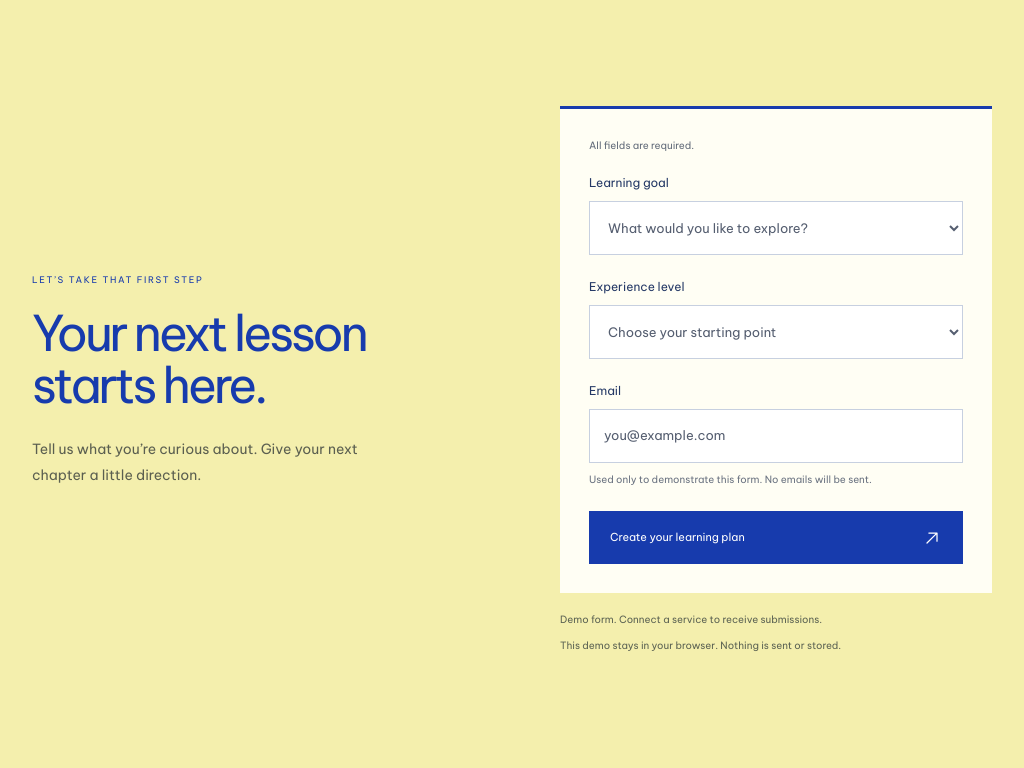
Scenario: Learning plan demo form › shows field errors and focuses the first invalid control
Click the button "Create your learning plan": point(677, 537) [589,511,963,564]
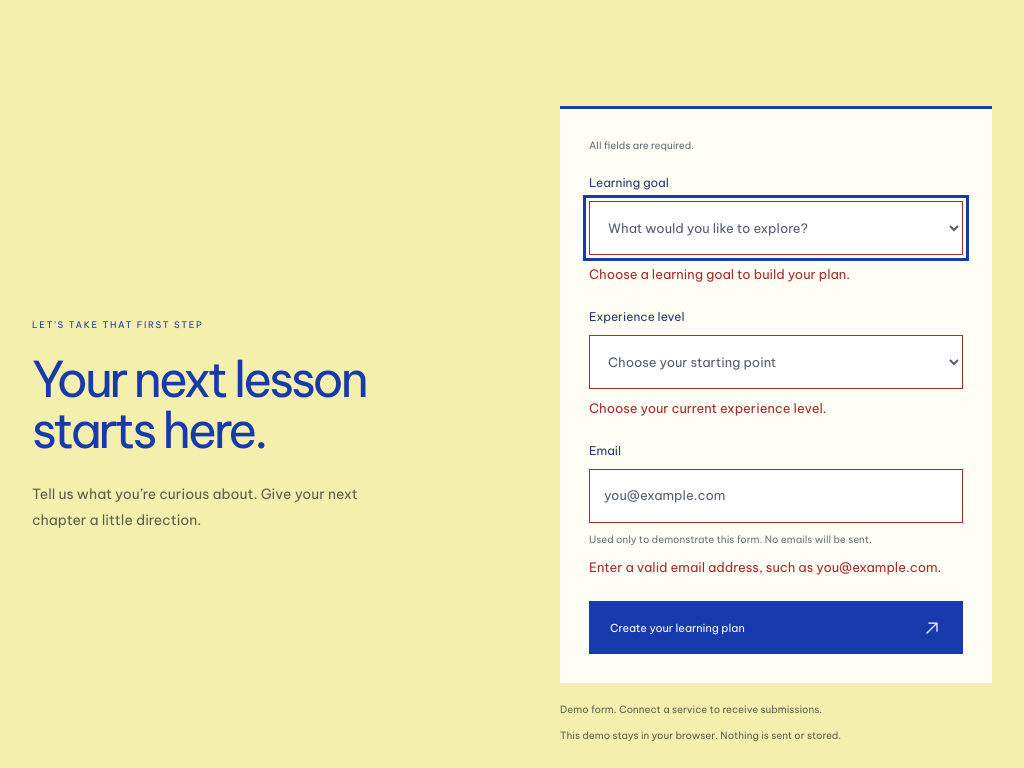
expect the number of messages is 3: met, box [589,266,850,282]; [589,400,826,416]; [589,556,963,578]
